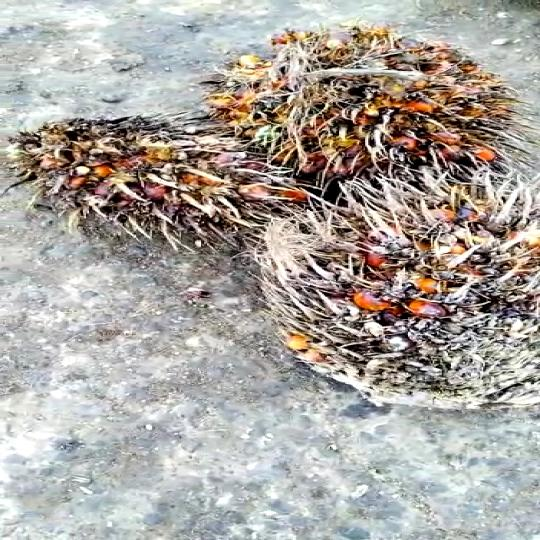terlalu masak: (218, 165, 540, 411), (220, 28, 496, 183), (0, 118, 301, 241)
